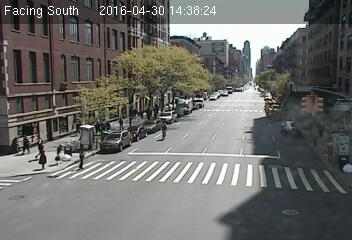neg: (24, 185, 54, 225), (271, 44, 299, 81), (294, 97, 320, 132), (102, 67, 127, 100), (219, 123, 244, 156), (46, 55, 68, 85), (266, 144, 288, 173), (273, 193, 295, 222), (116, 168, 137, 198), (225, 41, 246, 68), (161, 43, 181, 70), (53, 140, 69, 162), (177, 173, 191, 193)
pos: (71, 141, 92, 168), (30, 140, 50, 168), (158, 117, 175, 139), (19, 130, 35, 151)
